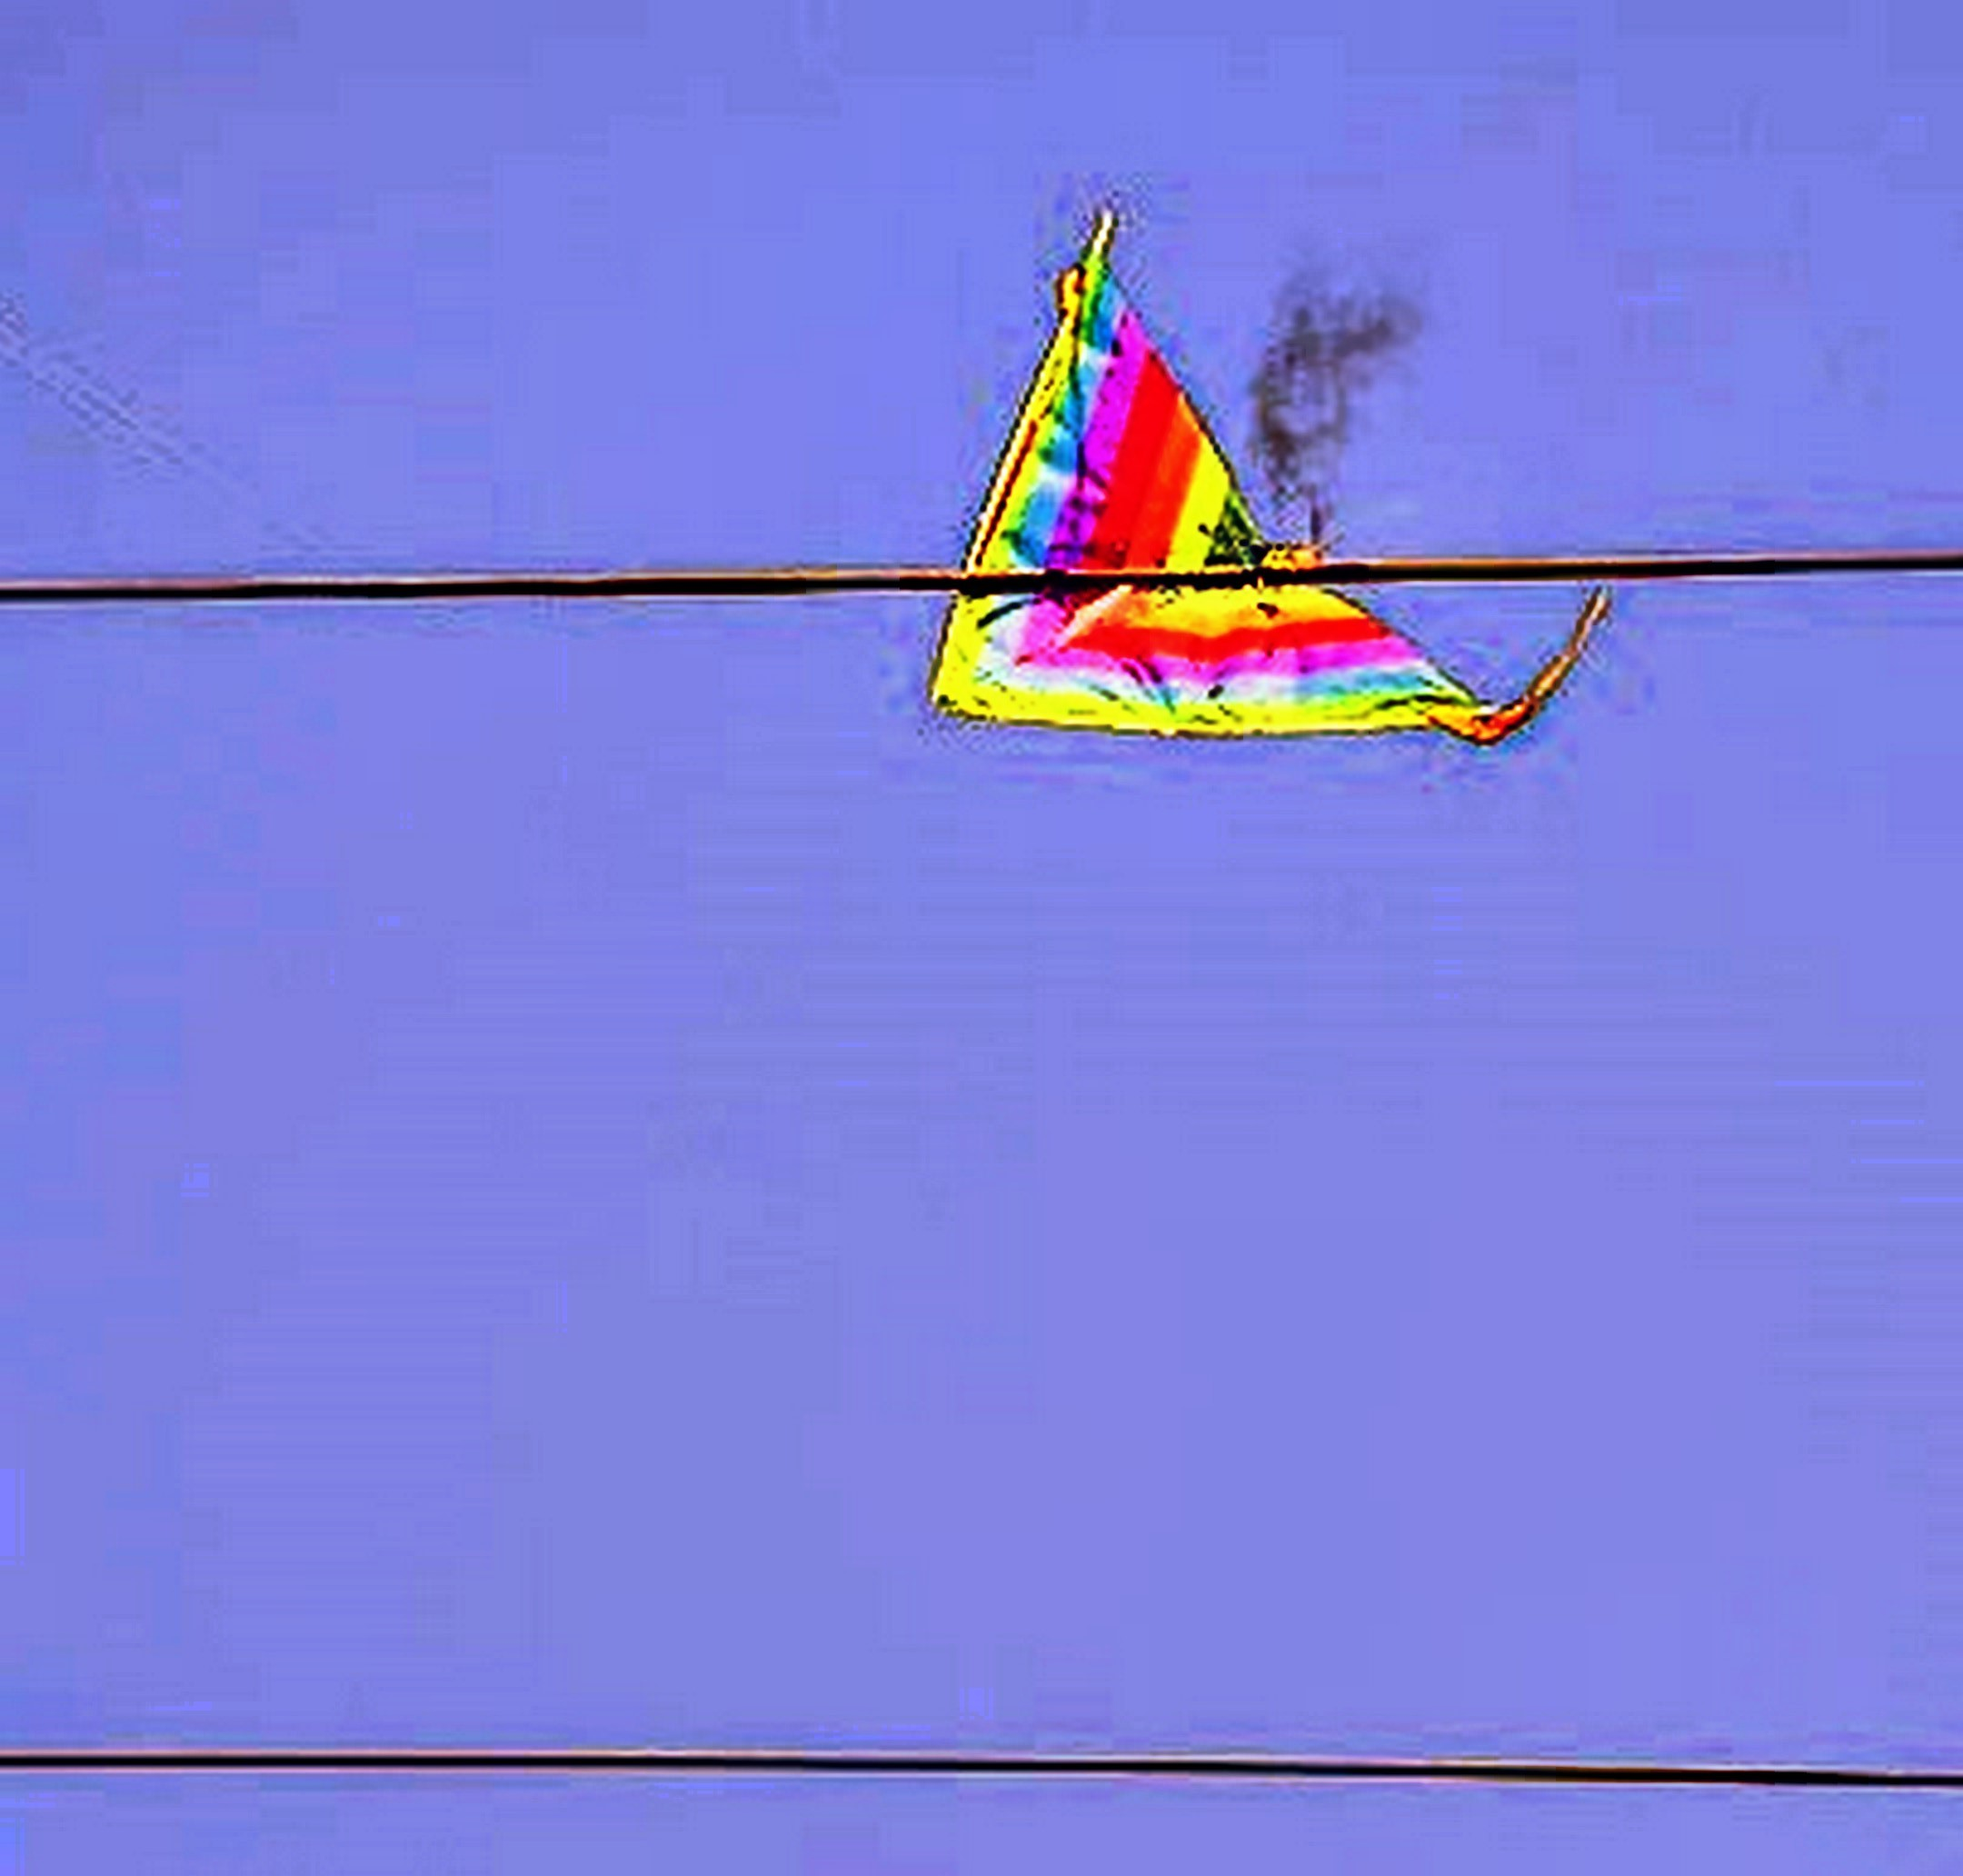wire foreign body: (873, 219, 1597, 817)
